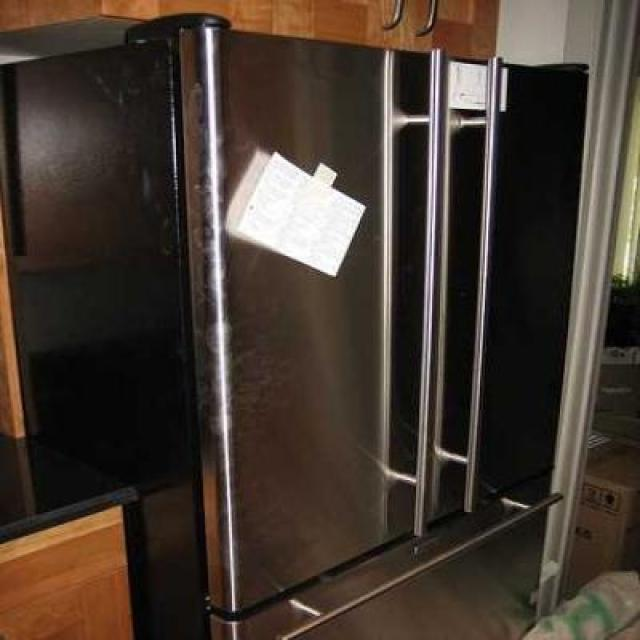refrigerator: (159, 17, 582, 640)
